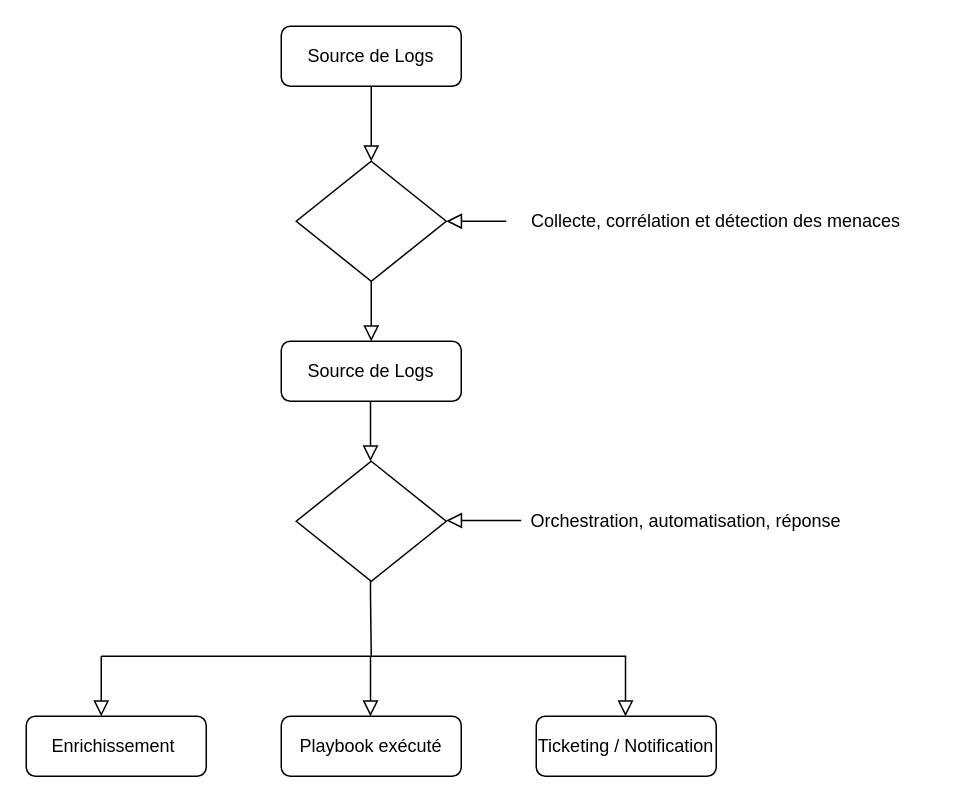
Image size: 953x803. Some labels were removed from this diagram. The centre of each missing label's shape, as x and y in pixels:
"SIEM" goes at (370,220).
"SOAR" goes at (370,520).
